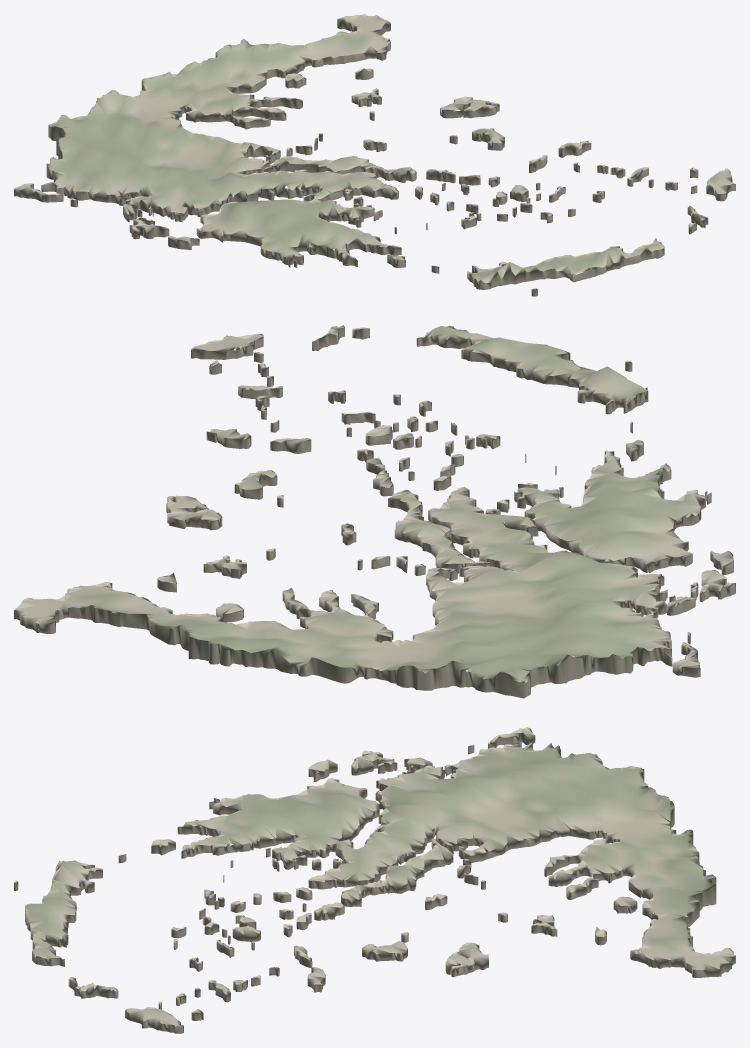
The model's file is gr-mobile.glb.
The picture shows the model from 3 angles, top to bottom: view 1: azimuth 30°, elevation 25°; view 2: azimuth 150°, elevation 25°; view 3: azimuth 270°, elevation 25°; orthographic projection. The views are drawn at different scales.
Bounding box in the file's own units: 97.86 × 3.31 × 99.84.
